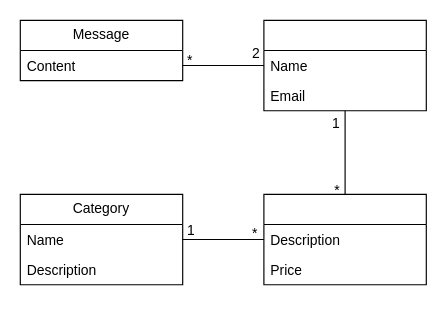
The diagram is 447 pixels wide and 309 high, and some of its shapes have lost their labels. The shapes that lost their labels are listed below. From the top down, each one's box as (x1, y1, x2, y2) in pixels, then its label:
(263, 19, 426, 111): User
(263, 193, 426, 285): Ad
